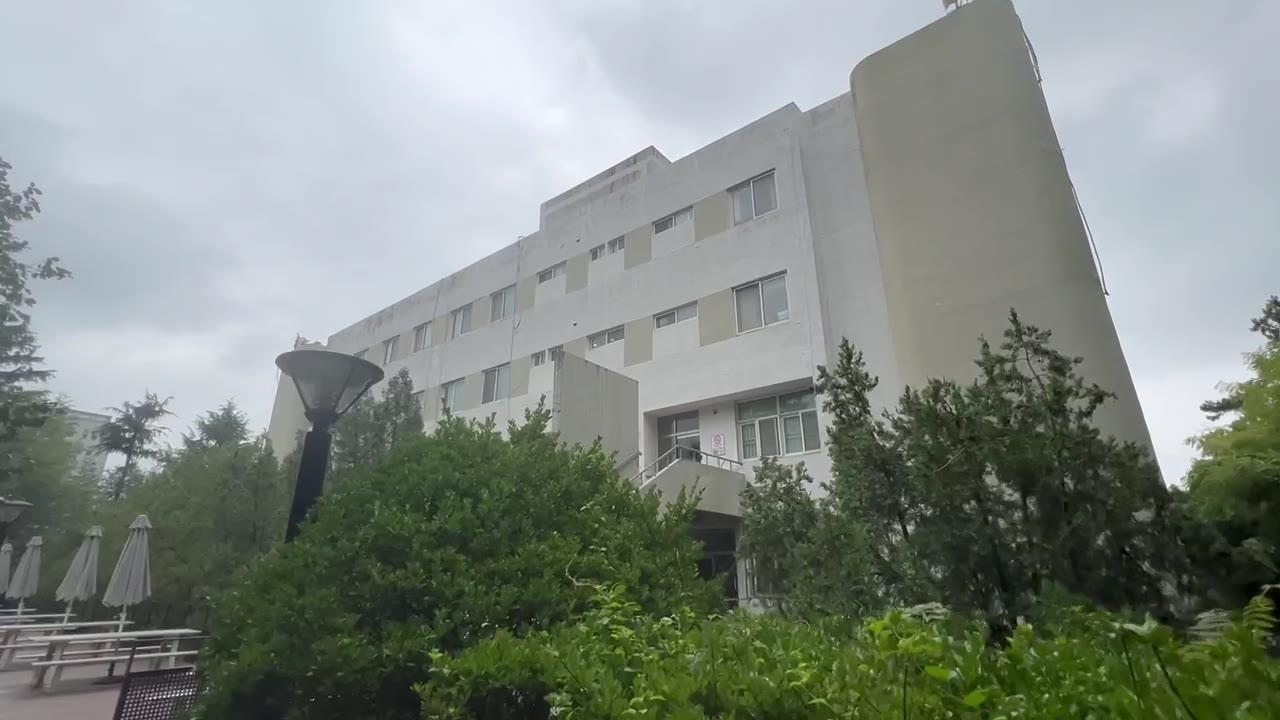building: (417, 52, 1103, 393)
